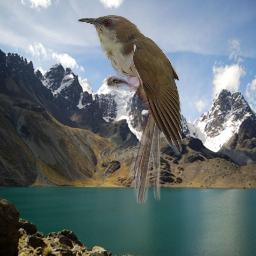Cuckoo: (77, 13, 182, 203)
